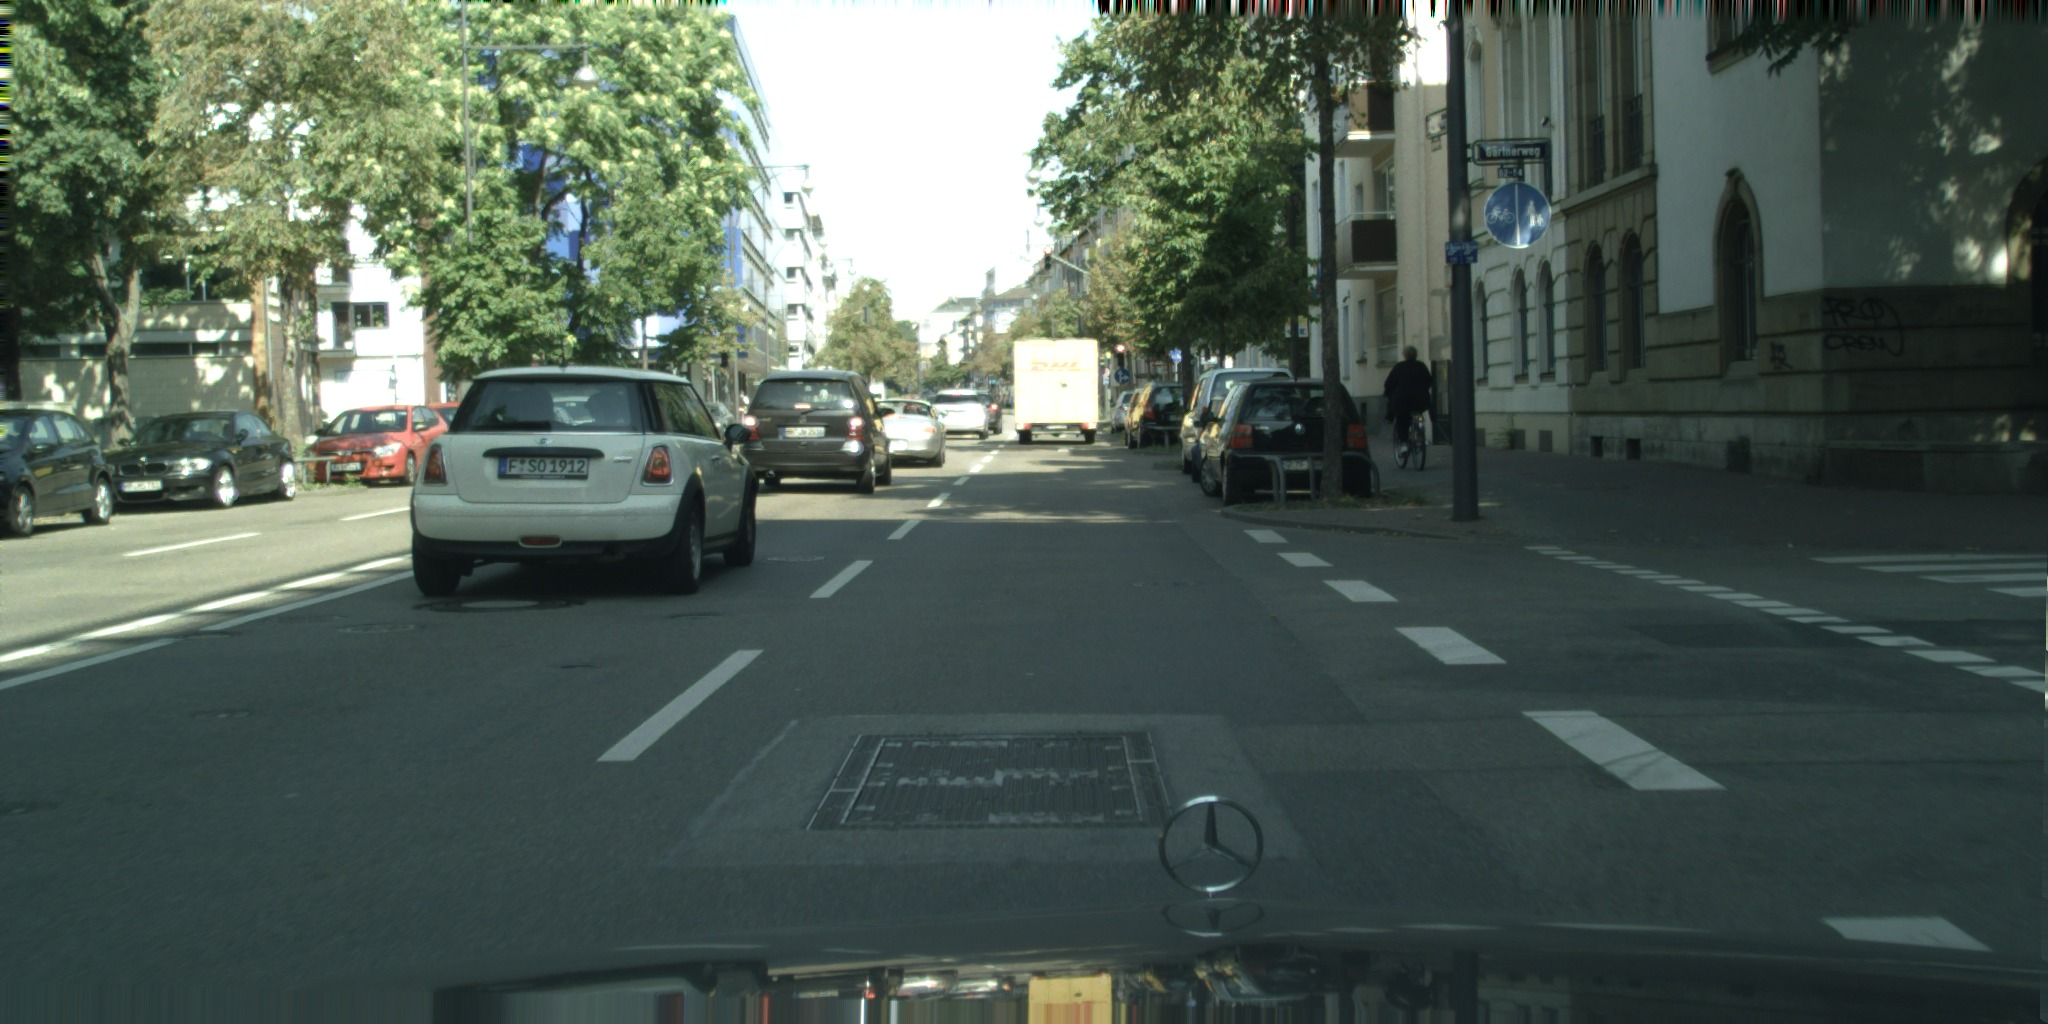bicycle: (1389, 408, 1428, 472)
car: (410, 364, 759, 597), (1198, 379, 1373, 508), (94, 410, 299, 509), (742, 369, 895, 493), (0, 407, 111, 536), (1180, 366, 1300, 473), (301, 406, 454, 486), (1013, 339, 1099, 444), (870, 395, 946, 467), (1128, 382, 1199, 450), (925, 389, 991, 439), (417, 401, 468, 447), (697, 402, 740, 446), (965, 387, 1002, 435)
rider: (1384, 344, 1434, 460)
truck: (1013, 339, 1099, 444)
